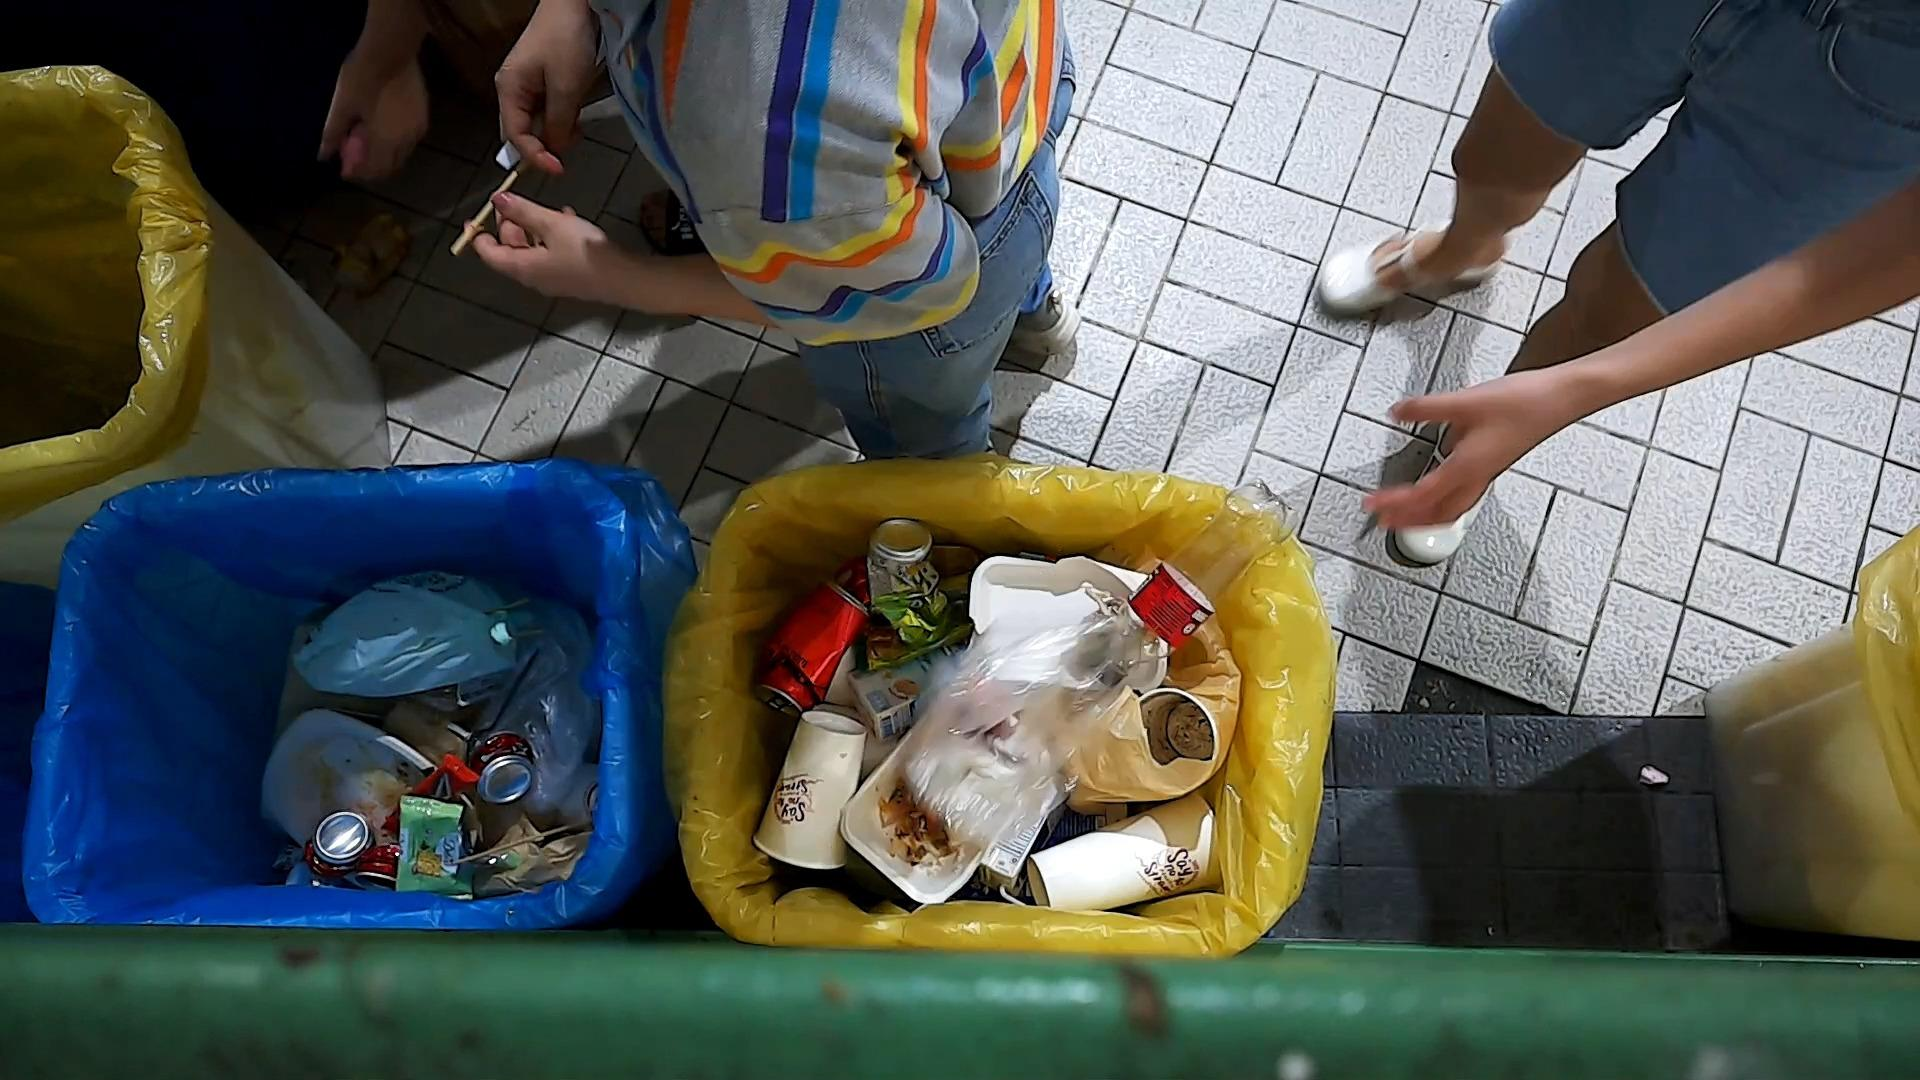can: (749, 575, 874, 721), (864, 514, 957, 655), (301, 806, 378, 884), (469, 728, 539, 807)
dirty food container: (836, 686, 1056, 910)
filled plastic bag: (899, 604, 1138, 856), (1060, 612, 1247, 814), (285, 562, 545, 702)
food container: (965, 549, 1174, 695), (258, 704, 436, 852)
milk carton: (977, 798, 1068, 907)
paper bag: (479, 803, 595, 902)
plastic bag: (472, 576, 601, 820)
plastic bottle: (1084, 472, 1307, 690)
plastic cutlery: (463, 642, 546, 770)
snack packaging: (392, 791, 525, 903), (378, 752, 492, 839)
sticks: (448, 152, 531, 260), (448, 819, 588, 869)
zero waste cup: (1023, 787, 1226, 918), (750, 708, 868, 874)
